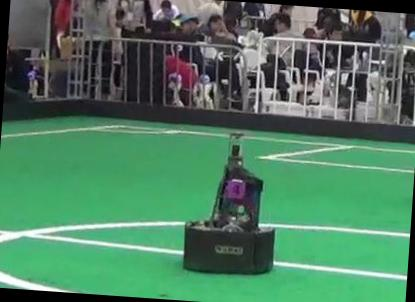robot: (183, 133, 274, 274)
